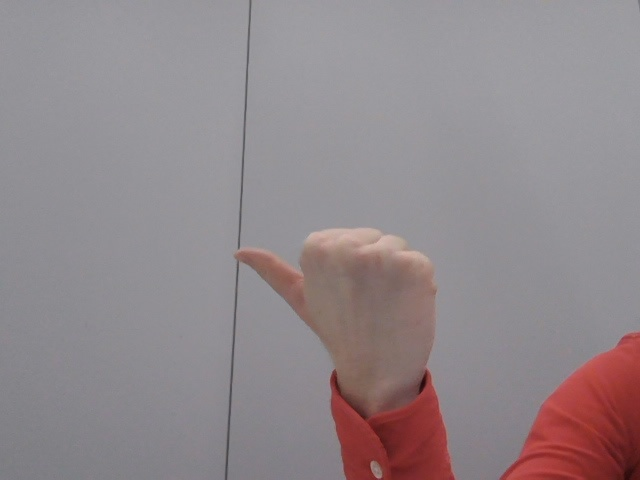right: (205, 206, 452, 419)
